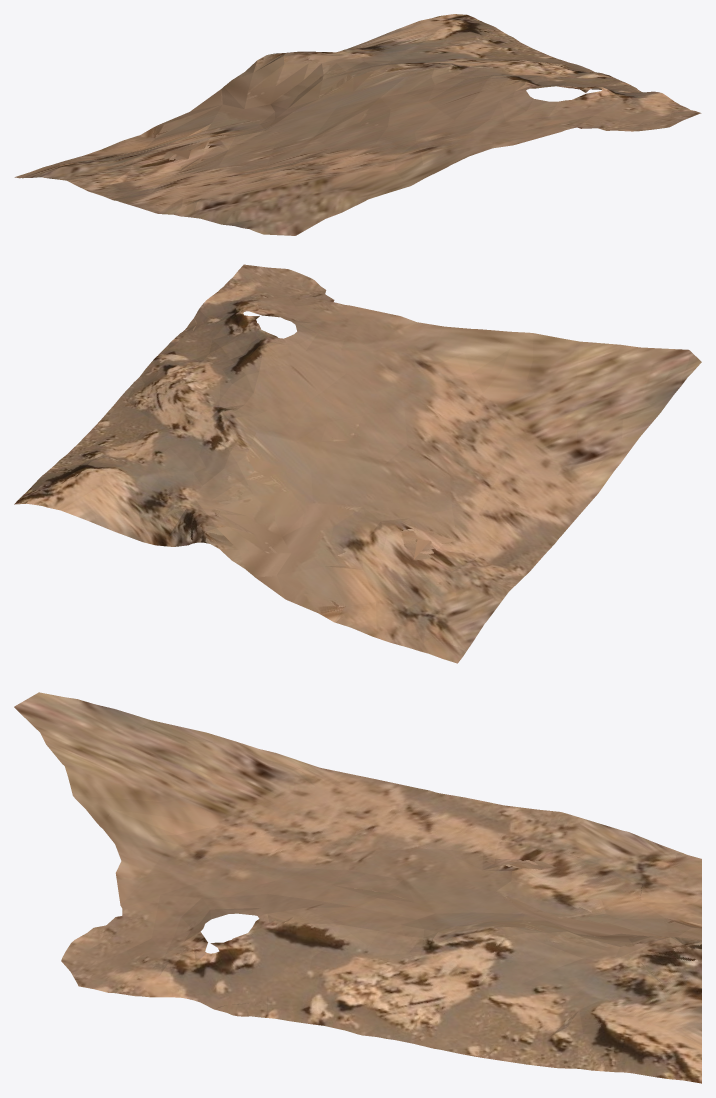
The picture shows the model from 3 angles, top to bottom: view 1: azimuth 30°, elevation 25°; view 2: azimuth 150°, elevation 25°; view 3: azimuth 270°, elevation 25°; orthographic projection. The views are drawn at different scales.
Size of the model in its own units: 1.04 by 0.2762 by 1.03.
2 materials, 2 textured.
